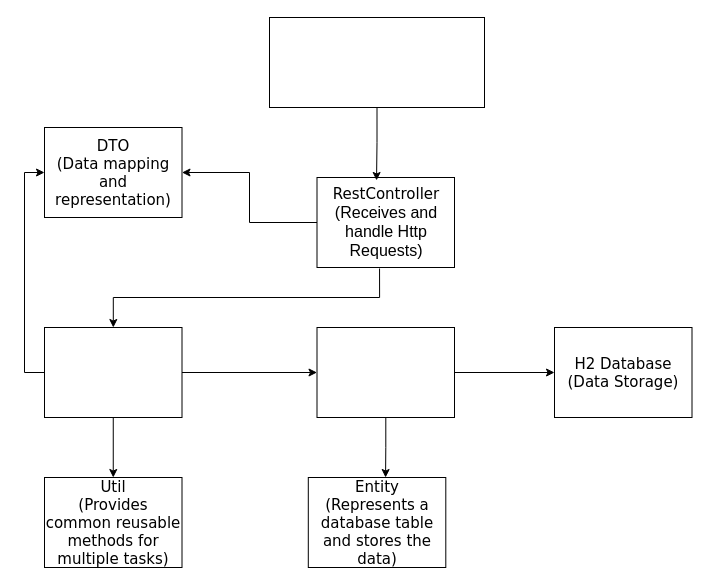
The diagram is 710 pixels wide and 585 high, and some of its shapes have lost their labels. The shapes that lost their labels are listed below. From the top down, each one's box as (x1, y1, x2, y2) in pixels, then its label:
(268, 16, 484, 108): HTTP Request (GET/POST/PUT/DELETE)
(44, 326, 182, 418): Service (Business Logic)
(316, 326, 454, 418): Repository (Data access)
